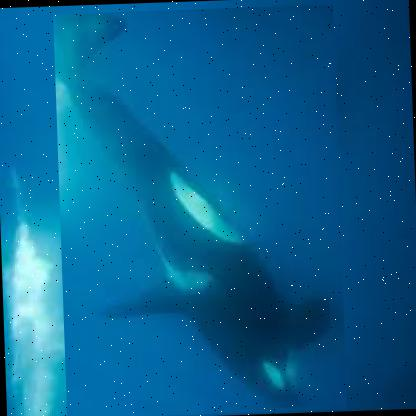killer_whale: (53, 3, 349, 415)
